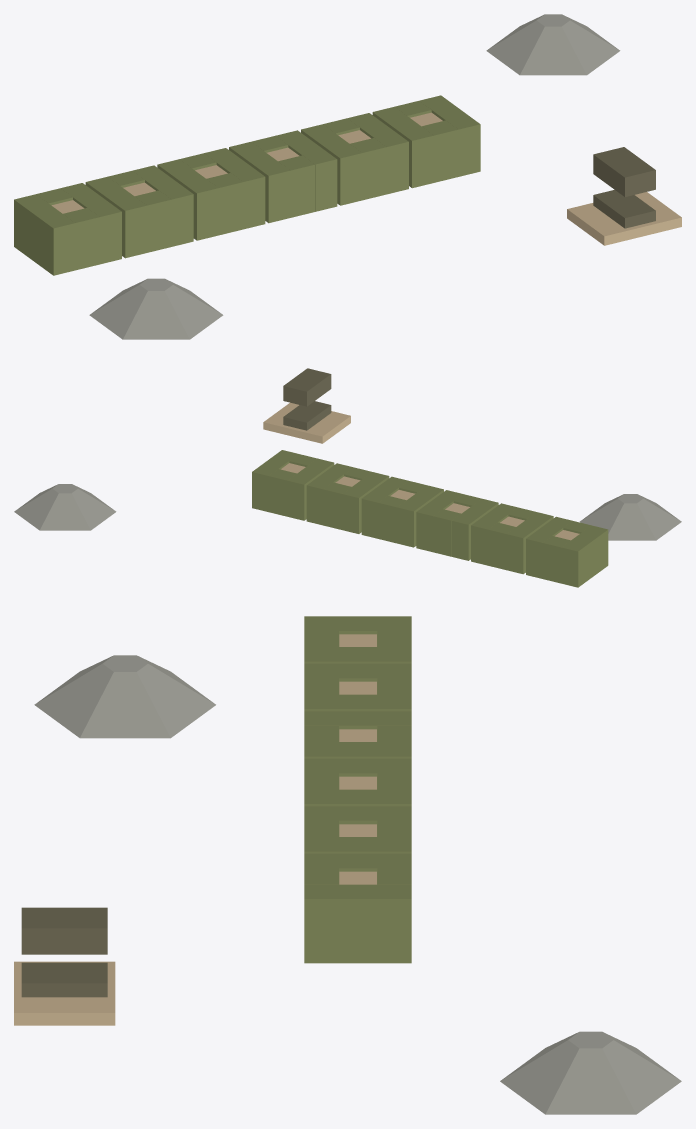
The model's file is SM_ObraReconstruccion_v4_10m_LOD1.fbx.
3 views of the same model, one above another, from view 1: azimuth 30°, elevation 25°; view 2: azimuth 150°, elevation 25°; view 3: azimuth 270°, elevation 25° (orthographic). The views are drawn at different scales.
Parts seen in each view (by area): view 1: SM_obra_curso_v49_LOD1; view 2: SM_obra_curso_v49_LOD1; view 3: SM_obra_curso_v49_LOD1.
Boxes of the visible parts, x1,y1,x2,y2 form: SM_obra_curso_v49_LOD1: (14, 14, 681, 339); SM_obra_curso_v49_LOD1: (14, 368, 681, 587); SM_obra_curso_v49_LOD1: (14, 616, 681, 1114).
Bounding box in the file's own units: 10.36 × 0.895 × 6.6.
